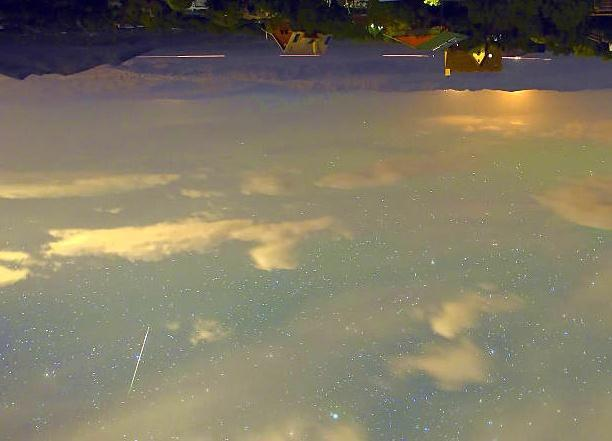meteorite: (122, 320, 158, 397)
